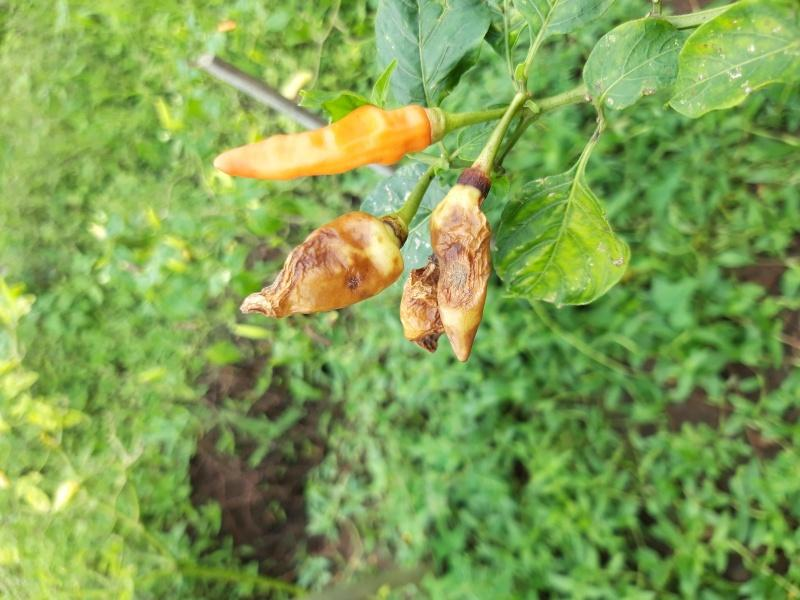antraknosa: (241, 209, 405, 321), (428, 184, 491, 353), (399, 266, 450, 353)
cabai_normal: (214, 105, 429, 179)
